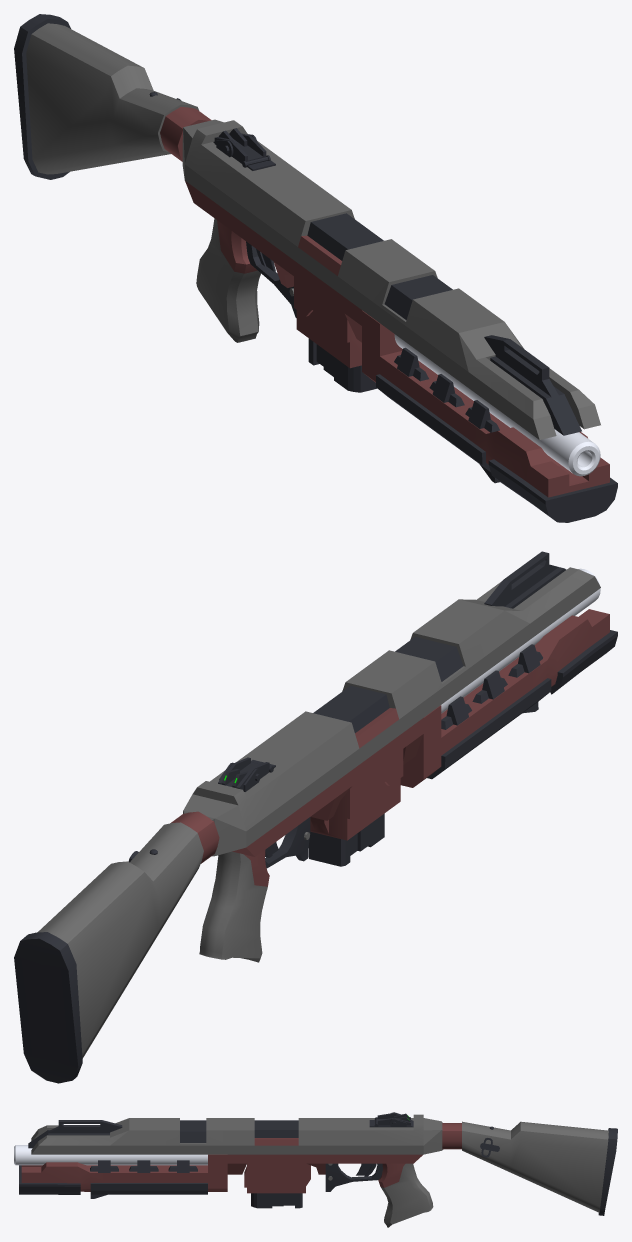
Rendered from Gun2.fbx.
3 renders of one model, top to bottom at view 1: azimuth 30°, elevation 25°; view 2: azimuth 150°, elevation 25°; view 3: azimuth 270°, elevation 25°, orthographic. The views are drawn at different scales.
Parts seen in each view (by area): view 1: stock_scorpion_classic, handguard_sentinel_jaw, mediumBlaster_magwell_sentinel, mediumBlaster_front_half_sentinel, mediumBlaster_center_half_detail_1b, mediumBlaster_center_half_detail_topmetal, grip_trigger_sentinel, barrel_thick_long, magazine_sentinel_short, ironsight_hercules_back; view 2: stock_scorpion_classic, mediumBlaster_magwell_sentinel, handguard_sentinel_jaw, mediumBlaster_center_half_detail_1b, mediumBlaster_center_half_detail_topmetal, grip_trigger_sentinel, mediumBlaster_front_half_sentinel, mediumBlaster_half_front_shortBeveled, magazine_sentinel_short, barrel_thick_long, ironsight_hercules_back; view 3: stock_scorpion_classic, handguard_sentinel_jaw, mediumBlaster_magwell_sentinel, mediumBlaster_center_half_detail_1b, mediumBlaster_center_half_detail_topmetal, grip_trigger_sentinel, mediumBlaster_front_half_sentinel, barrel_thick_long, magazine_sentinel_short, mediumBlaster_half_front_shortBeveled, ironsight_hercules_back.
Boxes of the visible parts, left/top/right/bottom form: stock_scorpion_classic: left=14, top=14, right=211, bottom=179; handguard_sentinel_jaw: left=362, top=310, right=617, bottom=522; mediumBlaster_magwell_sentinel: left=273, top=192, right=415, bottom=368; mediumBlaster_front_half_sentinel: left=451, top=322, right=600, bottom=439; mediumBlaster_center_half_detail_1b: left=184, top=120, right=326, bottom=260; mediumBlaster_center_half_detail_topmetal: left=362, top=257, right=504, bottom=374; grip_trigger_sentinel: left=196, top=218, right=296, bottom=342; barrel_thick_long: left=394, top=334, right=600, bottom=476; magazine_sentinel_short: left=308, top=338, right=376, bottom=392; ironsight_hercules_back: left=214, top=128, right=270, bottom=167; stock_scorpion_classic: left=14, top=811, right=219, bottom=1083; mediumBlaster_magwell_sentinel: left=281, top=664, right=423, bottom=840; handguard_sentinel_jaw: left=400, top=609, right=617, bottom=787; mediumBlaster_center_half_detail_1b: left=193, top=729, right=334, bottom=856; mediumBlaster_center_half_detail_topmetal: left=370, top=599, right=512, bottom=717; grip_trigger_sentinel: left=199, top=817, right=310, bottom=962; mediumBlaster_front_half_sentinel: left=459, top=551, right=600, bottom=652; mediumBlaster_half_front_shortBeveled: left=183, top=794, right=246, bottom=856; magazine_sentinel_short: left=308, top=813, right=384, bottom=866; barrel_thick_long: left=441, top=568, right=600, bottom=713; ironsight_hercules_back: left=218, top=757, right=273, bottom=791; stock_scorpion_classic: left=442, top=1121, right=617, bottom=1215; handguard_sentinel_jaw: left=19, top=1154, right=227, bottom=1198; mediumBlaster_magwell_sentinel: left=227, top=1118, right=325, bottom=1193; mediumBlaster_center_half_detail_1b: left=325, top=1114, right=423, bottom=1163; mediumBlaster_center_half_detail_topmetal: left=129, top=1118, right=227, bottom=1154; grip_trigger_sentinel: left=325, top=1163, right=433, bottom=1227; mediumBlaster_front_half_sentinel: left=28, top=1118, right=129, bottom=1154; barrel_thick_long: left=14, top=1145, right=207, bottom=1165; magazine_sentinel_short: left=251, top=1193, right=302, bottom=1208; mediumBlaster_half_front_shortBeveled: left=423, top=1118, right=443, bottom=1154; ironsight_hercules_back: left=374, top=1112, right=410, bottom=1127.
Size of the model in its own units: 4.84 by 12.36 by 61.6.
